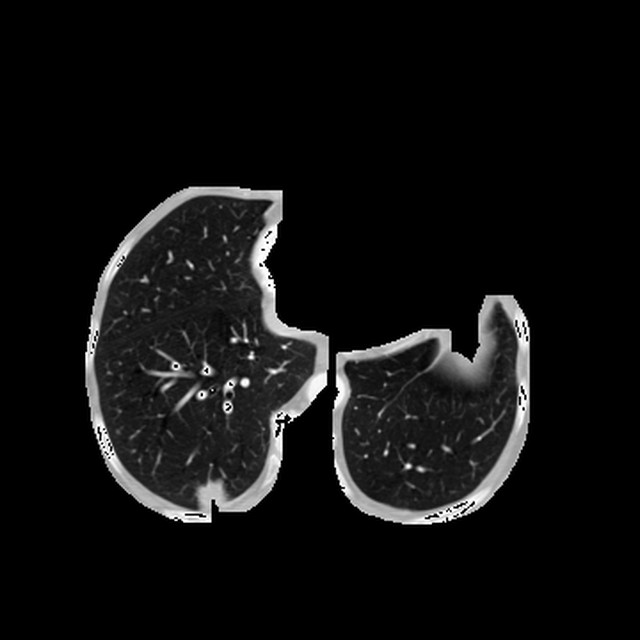PN: (194, 476, 229, 512)
